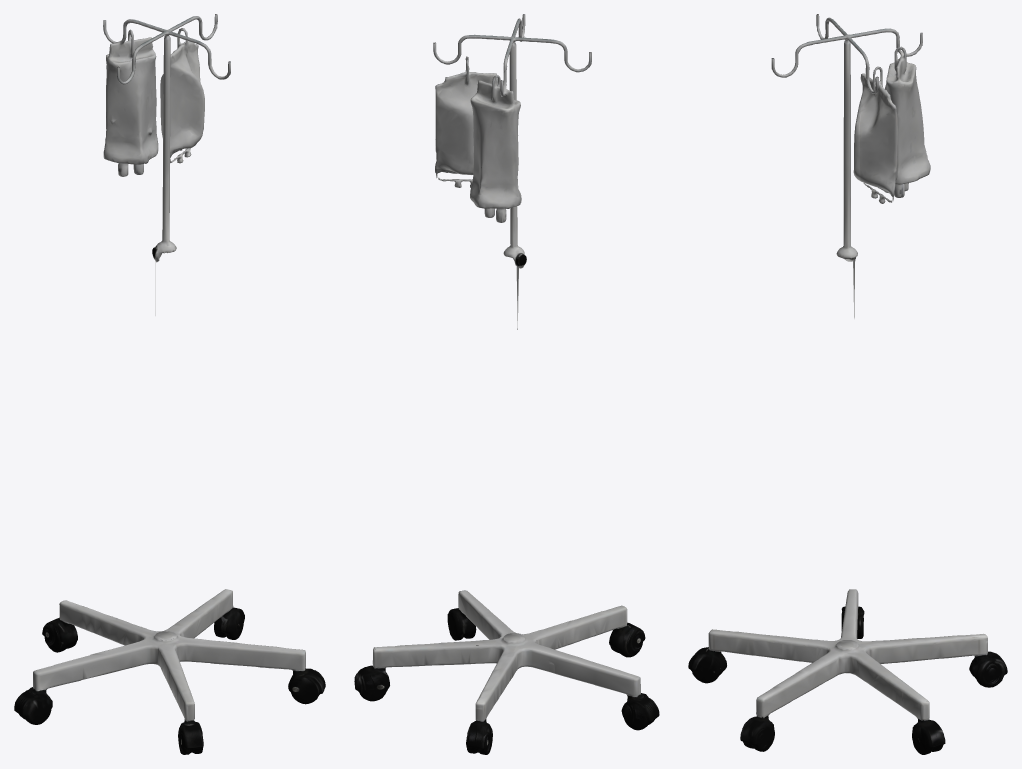
The model's file is repaired.glb.
3 views of the same model, side by side, from view 1: azimuth 30°, elevation 25°; view 2: azimuth 150°, elevation 25°; view 3: azimuth 270°, elevation 25° (orthographic).
Visible parts, largest first — view 1: repaired; view 2: repaired; view 3: repaired.
Part boxes in pixels (x1,y1,x2,y2): repaired: (14, 14, 325, 754); repaired: (354, 14, 659, 754); repaired: (688, 14, 1007, 754).
Bounding box in the file's own units: 0.4187 × 0.9995 × 0.4342.
1 material, 1 textured.
